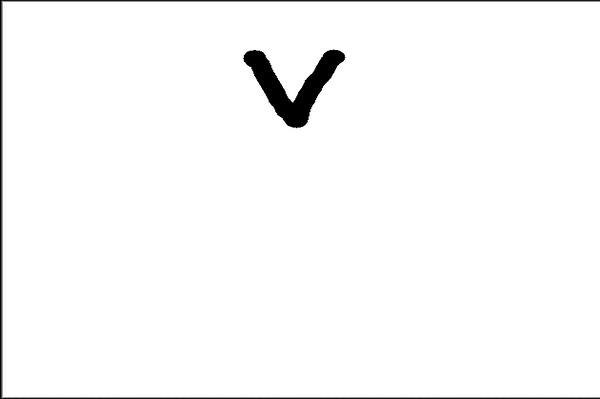V: (235, 40, 356, 135)
